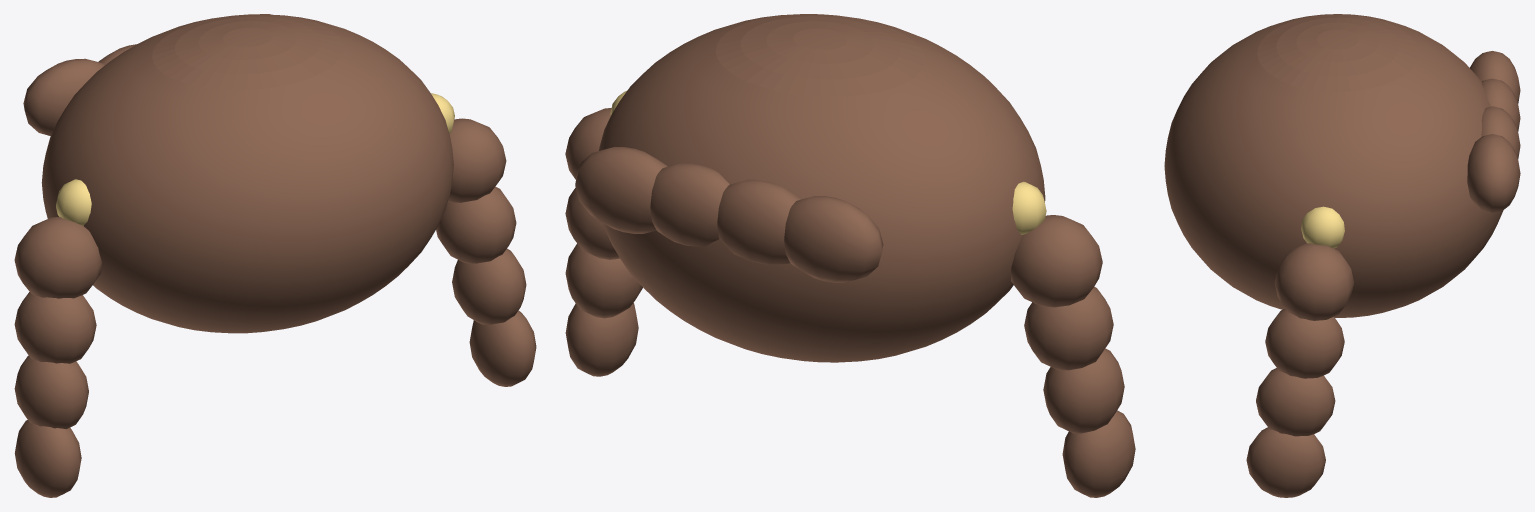
The model's file is Hair_Twintails.fbx.
3 views of the same model, side by side, from view 1: azimuth 30°, elevation 25°; view 2: azimuth 150°, elevation 25°; view 3: azimuth 270°, elevation 25° (orthographic). The views are drawn at different scales.
Parts seen in each view (by area): view 1: Hair, Twin_Tail.004, Twin_Tail.005, Twin_Tail.001, Twin_Tail.006, Twin_Tail.002, Twin_Tail.007, Twin_Tail, Twin_Tail.003, Hair_Bang.003, Hair_Tie.001; view 2: Hair, Hair_Bang.003, Twin_Tail.004, Hair_Bang, Hair_Bang.002, Twin_Tail.005, Hair_Bang.001, Twin_Tail.006, Twin_Tail.007, Twin_Tail.003, Twin_Tail.002, Twin_Tail.001 (+2 smaller); view 3: Hair, Twin_Tail, Twin_Tail.003, Twin_Tail.001, Twin_Tail.002, Hair_Bang, Hair_Tie, Hair_Bang.003, Hair_Bang.001, Hair_Bang.002.
Part boxes in pixels (<box>): Hair: <box>41,14,453,333</box>; Twin_Tail.004: <box>14,216,101,298</box>; Twin_Tail.005: <box>14,292,96,363</box>; Twin_Tail.001: <box>436,186,516,263</box>; Twin_Tail.006: <box>14,355,88,429</box>; Twin_Tail.002: <box>452,248,526,324</box>; Twin_Tail.007: <box>14,420,81,497</box>; Twin_Tail: <box>448,118,506,202</box>; Twin_Tail.003: <box>469,310,536,386</box>; Hair_Bang.003: <box>23,58,104,135</box>; Hair_Tie.001: <box>56,179,91,225</box>; Hair: <box>598,14,1045,362</box>; Hair_Bang.003: <box>784,196,883,282</box>; Twin_Tail.004: <box>1011,215,1102,307</box>; Hair_Bang: <box>575,147,667,233</box>; Hair_Bang.002: <box>717,179,801,264</box>; Twin_Tail.005: <box>1024,287,1113,370</box>; Hair_Bang.001: <box>650,163,729,246</box>; Twin_Tail.006: <box>1043,348,1124,433</box>; Twin_Tail.007: <box>1062,410,1135,497</box>; Twin_Tail.003: <box>565,303,638,376</box>; Twin_Tail.002: <box>565,243,642,318</box>; Twin_Tail.001: <box>565,188,619,259</box>; Hair: <box>1164,14,1503,317</box>; Twin_Tail: <box>1274,243,1354,320</box>; Twin_Tail.003: <box>1246,427,1325,497</box>; Twin_Tail.001: <box>1265,308,1344,378</box>; Twin_Tail.002: <box>1256,368,1335,436</box>; Hair_Bang: <box>1467,134,1520,213</box>; Hair_Tie: <box>1301,206,1344,248</box>; Hair_Bang.003: <box>1470,51,1520,103</box>; Hair_Bang.001: <box>1481,106,1520,159</box>; Hair_Bang.002: <box>1481,78,1520,131</box>.
Bounding box in the file's own units: 116 × 83.5 × 76.
